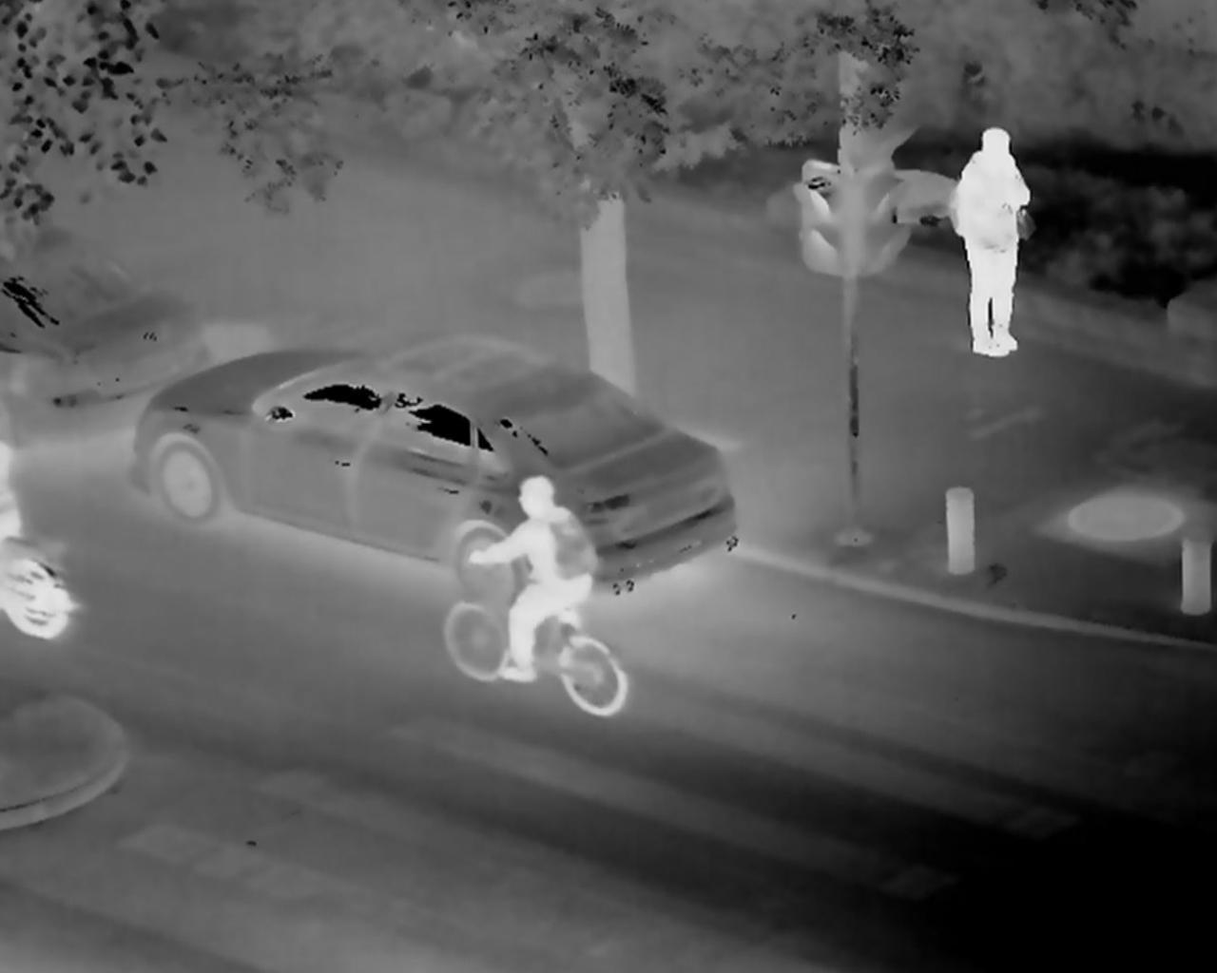person: (454, 469, 599, 681), (942, 118, 1032, 364)
